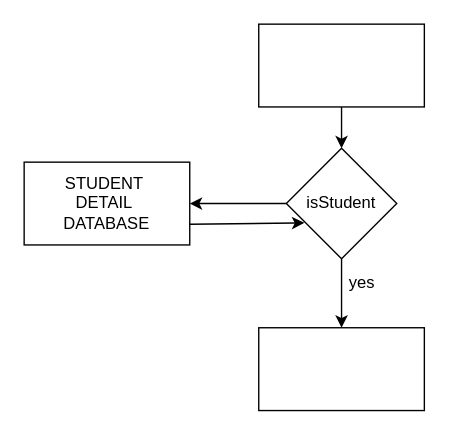
Some shapes in this 449 by 435 pixel diagram are drawn without their labels. The box of each missing label's shape, as (x1, y1, x2, y2) in pixels:
SEND OTP TO STUDENT EMAIL: (257, 326, 424, 411)
STUDENT DETAILS: (257, 23, 424, 107)
